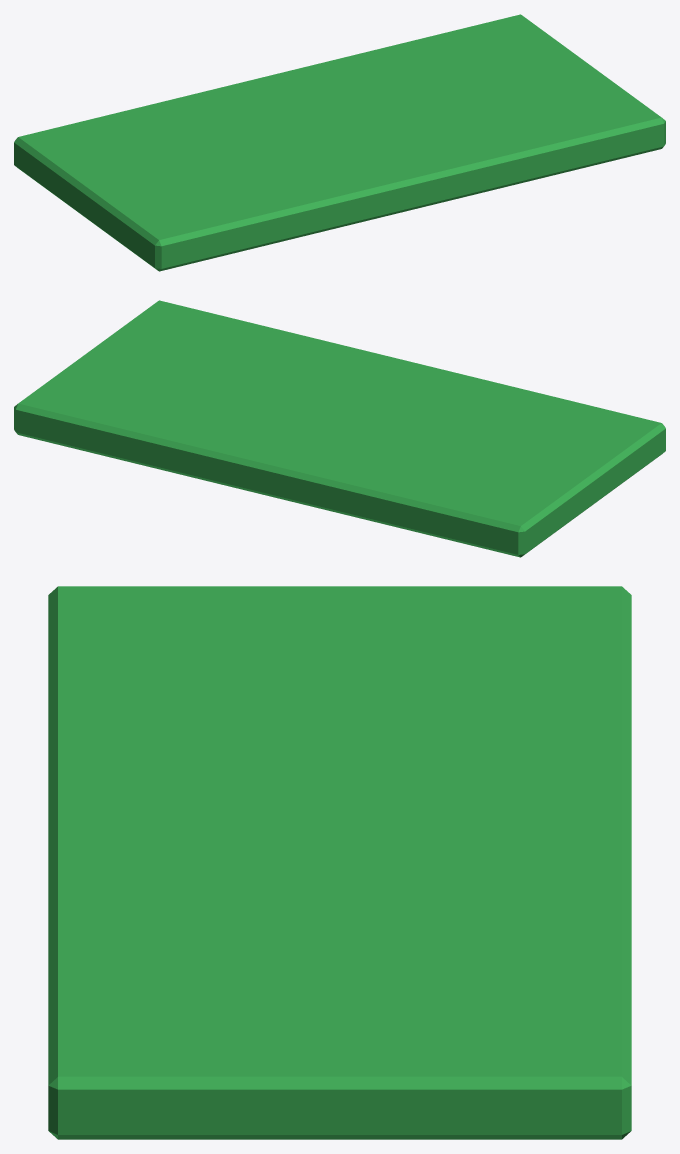
File: platform_wide.glb
The picture shows the model from 3 angles, top to bottom: view 1: azimuth 30°, elevation 25°; view 2: azimuth 150°, elevation 25°; view 3: azimuth 270°, elevation 25°; orthographic projection. The views are drawn at different scales.
Parts seen in each view (by area): view 1: platform_wide; view 2: platform_wide; view 3: platform_wide.
Boxes of the visible parts, <box> form: platform_wide: <box>14,14,665,271</box>; platform_wide: <box>14,300,665,557</box>; platform_wide: <box>48,586,631,1139</box>.
Bounding box in the file's own units: 0.85 × 0.05 × 0.42.
